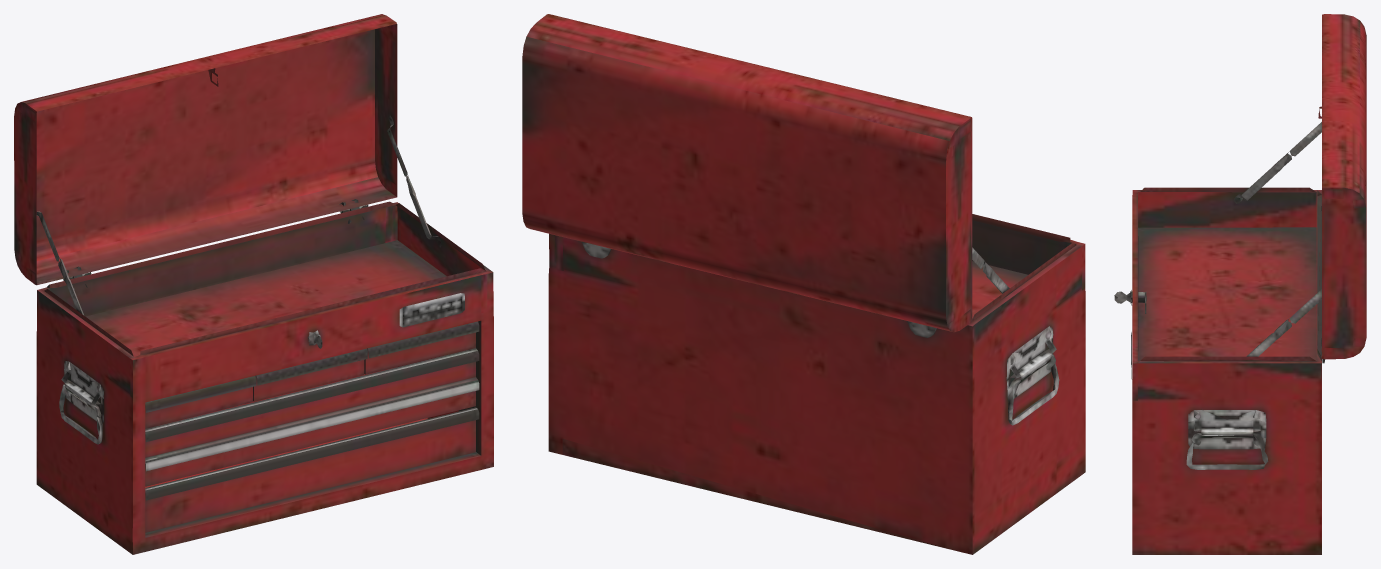
File: tool_chest.glb
The picture shows the model from 3 angles, left to right: view 1: azimuth 30°, elevation 25°; view 2: azimuth 150°, elevation 25°; view 3: azimuth 270°, elevation 25°; orthographic projection. The views are drawn at different scales.
Visible parts, largest first — view 1: mesh; view 2: mesh; view 3: mesh.
Boxes of the visible parts, box(x1,y1,x2,y2) form: mesh: box(14, 14, 493, 554); mesh: box(522, 14, 1085, 554); mesh: box(1114, 14, 1366, 554).
Size of the model in its own units: 0.683 by 0.65 by 0.4041.
1 material, 1 textured.
